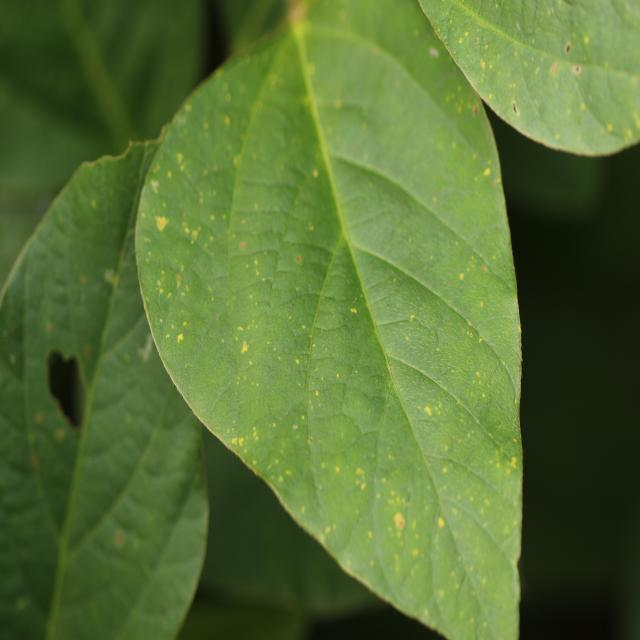Soybean: (129, 0, 524, 640)
downey_mildew: (269, 255, 385, 394)
